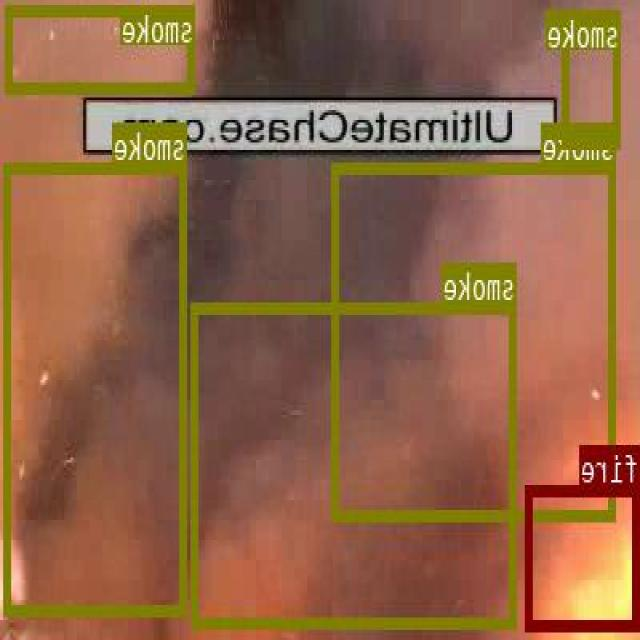fire: (526, 482, 640, 628)
smoke: (192, 302, 518, 627), (333, 161, 617, 518), (5, 160, 188, 614), (8, 4, 196, 92), (565, 10, 622, 146)
